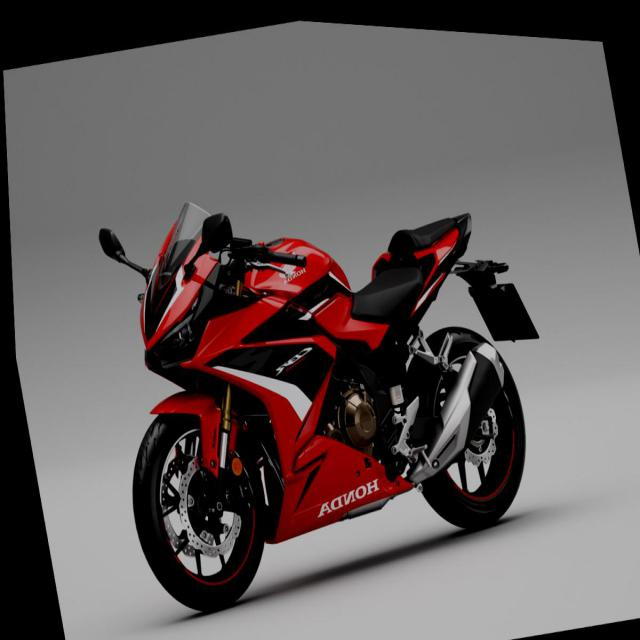CBR500R: (76, 118, 561, 636)
